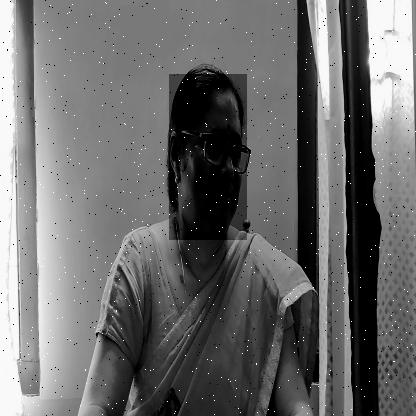Distracted: (169, 74, 247, 240)
